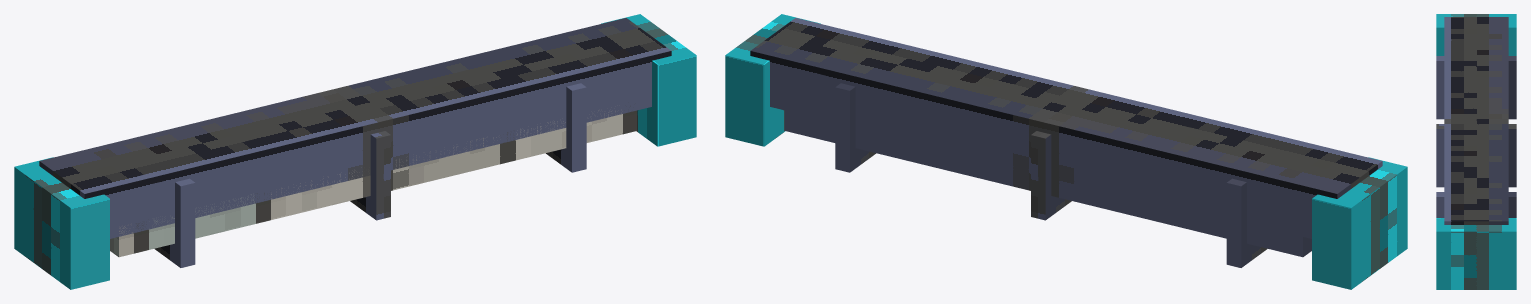
Rendered from tp_br_strip_light.glb.
The picture shows the model from 3 angles, left to right: view 1: azimuth 30°, elevation 25°; view 2: azimuth 150°, elevation 25°; view 3: azimuth 270°, elevation 25°; orthographic projection. The views are drawn at different scales.
Visible parts, largest first — view 1: br_lt_batten, br_lt_tube_live, br_lt_cap_l, br_lt_cap_r, br_lt_cage_0, br_lt_cage_2, br_lt_cage_1; view 2: br_lt_batten, br_lt_tube_dead, br_lt_cap_l, br_lt_cap_r, br_lt_cage_0, br_lt_cage_2, br_lt_cage_1; view 3: br_lt_batten, br_lt_cap_r, br_lt_cage_0, br_lt_cage_1, br_lt_cap_l, br_lt_cage_2.
Boxes of the visible parts, bbox=[...] form: br_lt_batten: bbox=[39, 18, 671, 238]; br_lt_tube_live: bbox=[110, 106, 637, 257]; br_lt_cap_l: bbox=[14, 157, 109, 289]; br_lt_cap_r: bbox=[601, 14, 696, 146]; br_lt_cage_0: bbox=[154, 178, 195, 267]; br_lt_cage_2: bbox=[546, 83, 586, 172]; br_lt_cage_1: bbox=[350, 131, 390, 220]; br_lt_batten: bbox=[750, 18, 1382, 238]; br_lt_tube_dead: bbox=[784, 102, 1311, 257]; br_lt_cap_l: bbox=[1312, 157, 1407, 289]; br_lt_cap_r: bbox=[725, 14, 820, 146]; br_lt_cage_0: bbox=[1226, 178, 1267, 267]; br_lt_cage_2: bbox=[835, 83, 875, 172]; br_lt_cage_1: bbox=[1031, 131, 1071, 220]; br_lt_batten: bbox=[1444, 17, 1508, 224]; br_lt_cap_r: bbox=[1436, 218, 1516, 289]; br_lt_cage_0: bbox=[1436, 56, 1516, 119]; br_lt_cage_1: bbox=[1436, 124, 1516, 187]; br_lt_cap_l: bbox=[1436, 14, 1516, 55]; br_lt_cage_2: bbox=[1436, 192, 1516, 217].
Bounding box in the file's own units: 1.28 × 0.18 × 0.2.
Materials: 3 (3 with a texture image).
